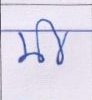i_matra: (40, 17, 67, 64)
